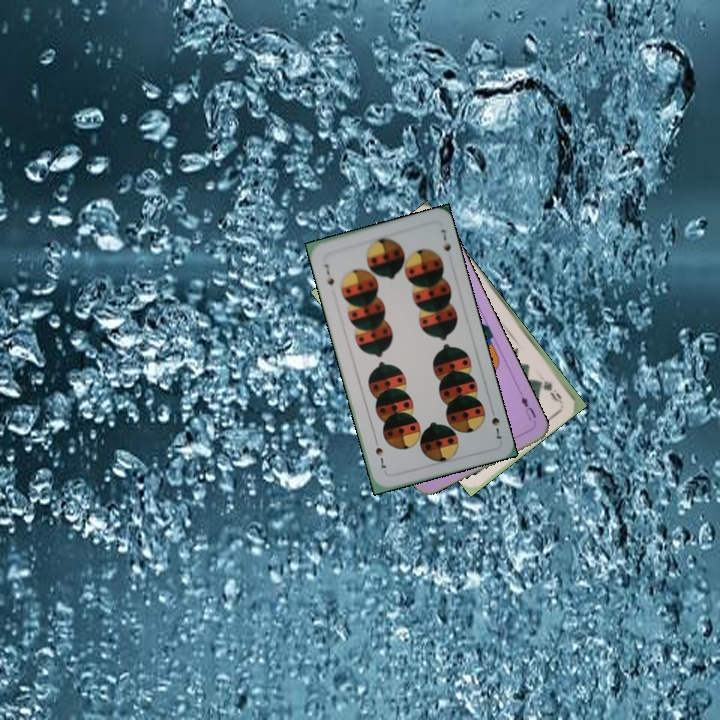EU: (517, 392, 539, 423)
G9: (539, 376, 565, 405)
S7: (487, 403, 504, 442), (320, 259, 337, 287)
